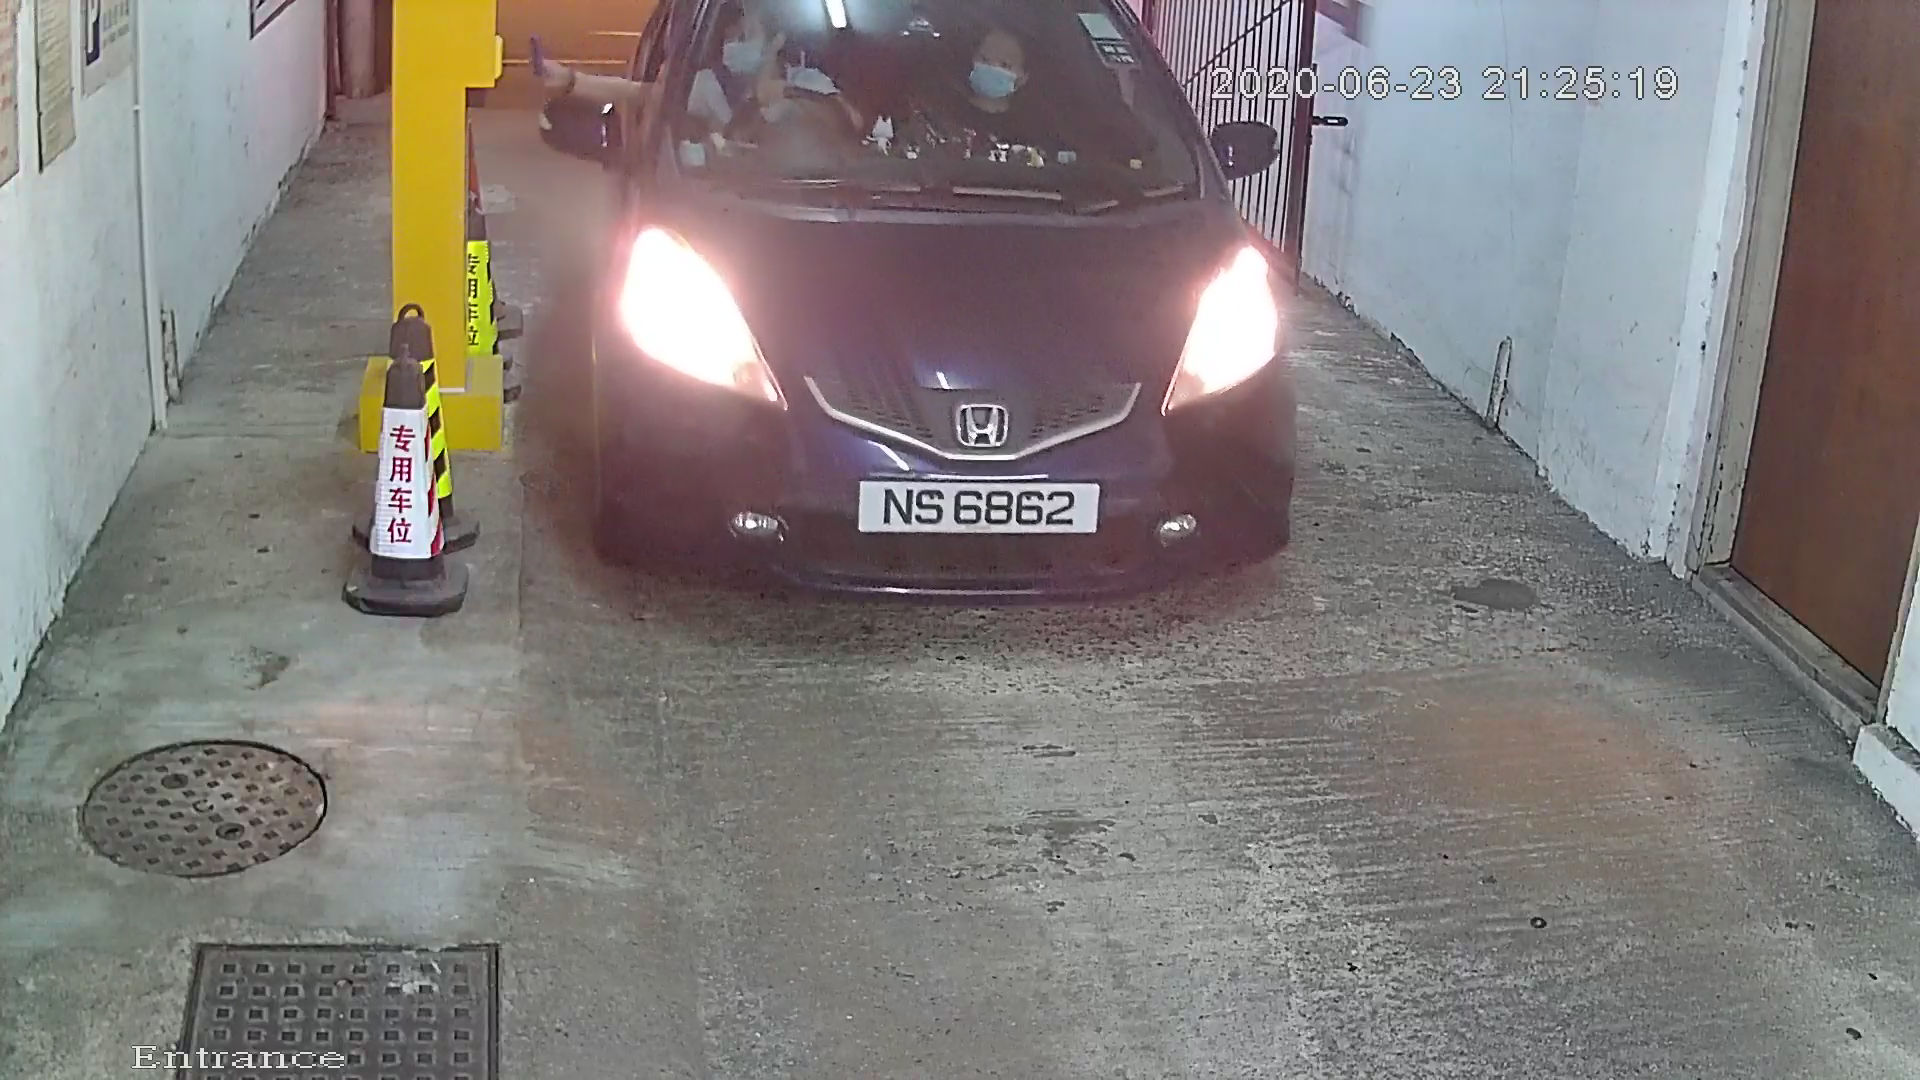privatecar: (529, 3, 1331, 634)
